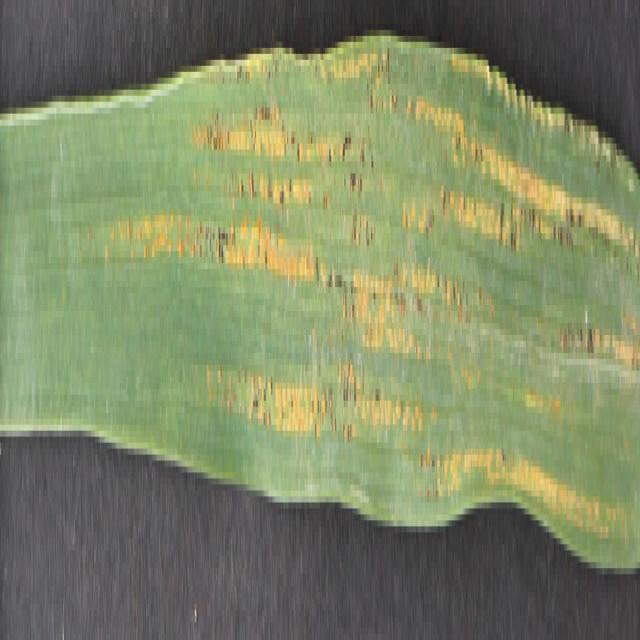leaf rust: (99, 48, 640, 526)
